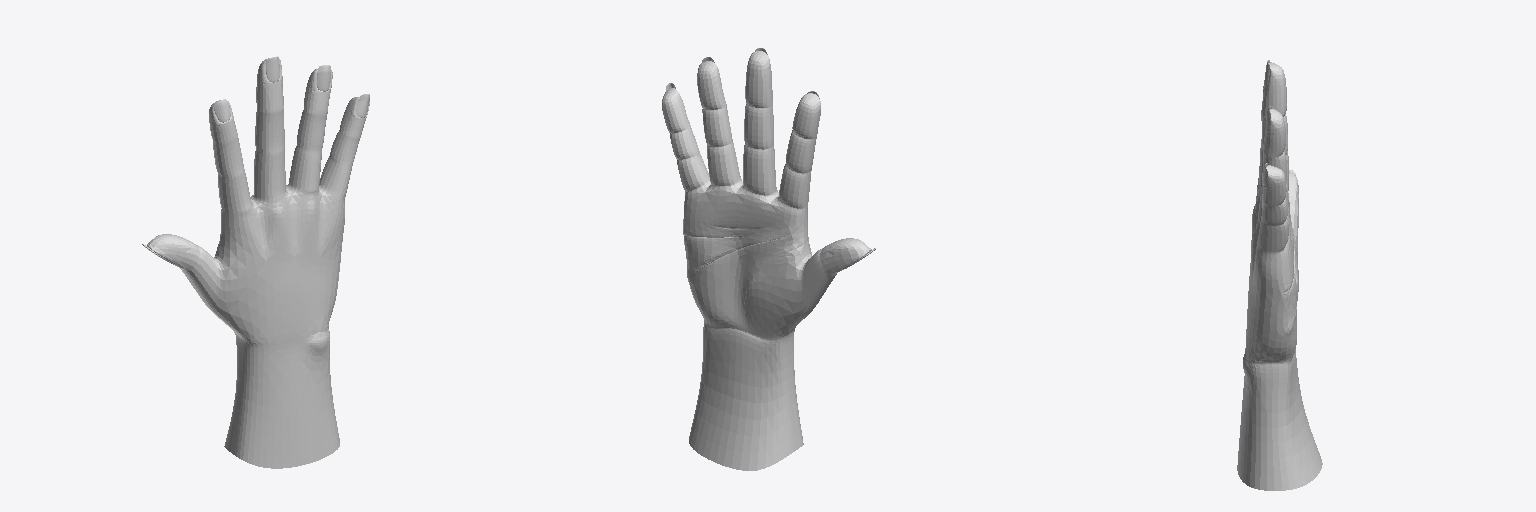
Rendered from hand.obj.
3 renders of one model, left to right at view 1: azimuth 30°, elevation 25°; view 2: azimuth 150°, elevation 25°; view 3: azimuth 270°, elevation 25°, orthographic.
Visible parts, largest first — view 1: Box04; view 2: Box04; view 3: Box04.
Part boxes in pixels (x1,y1,x2,y2): Box04: (142,56,369,468); Box04: (662,48,875,470); Box04: (1237,60,1322,490).
Bounding box in the file's own units: 97.18 × 172 × 33.14.